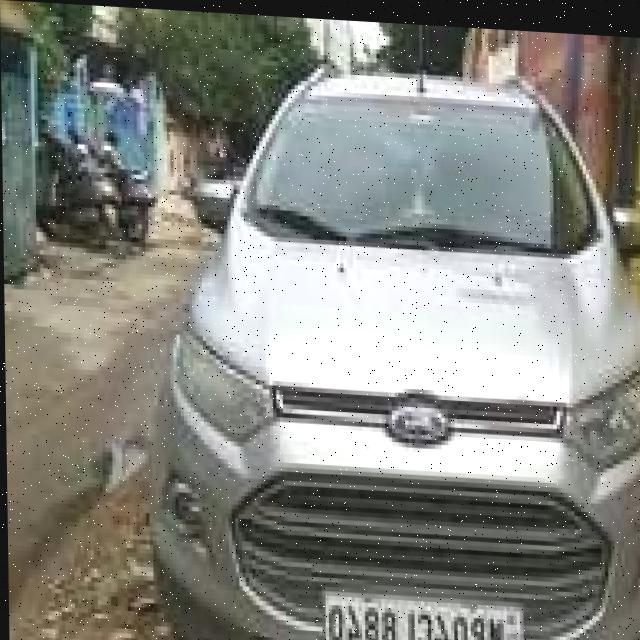plate: (320, 578, 525, 640)
